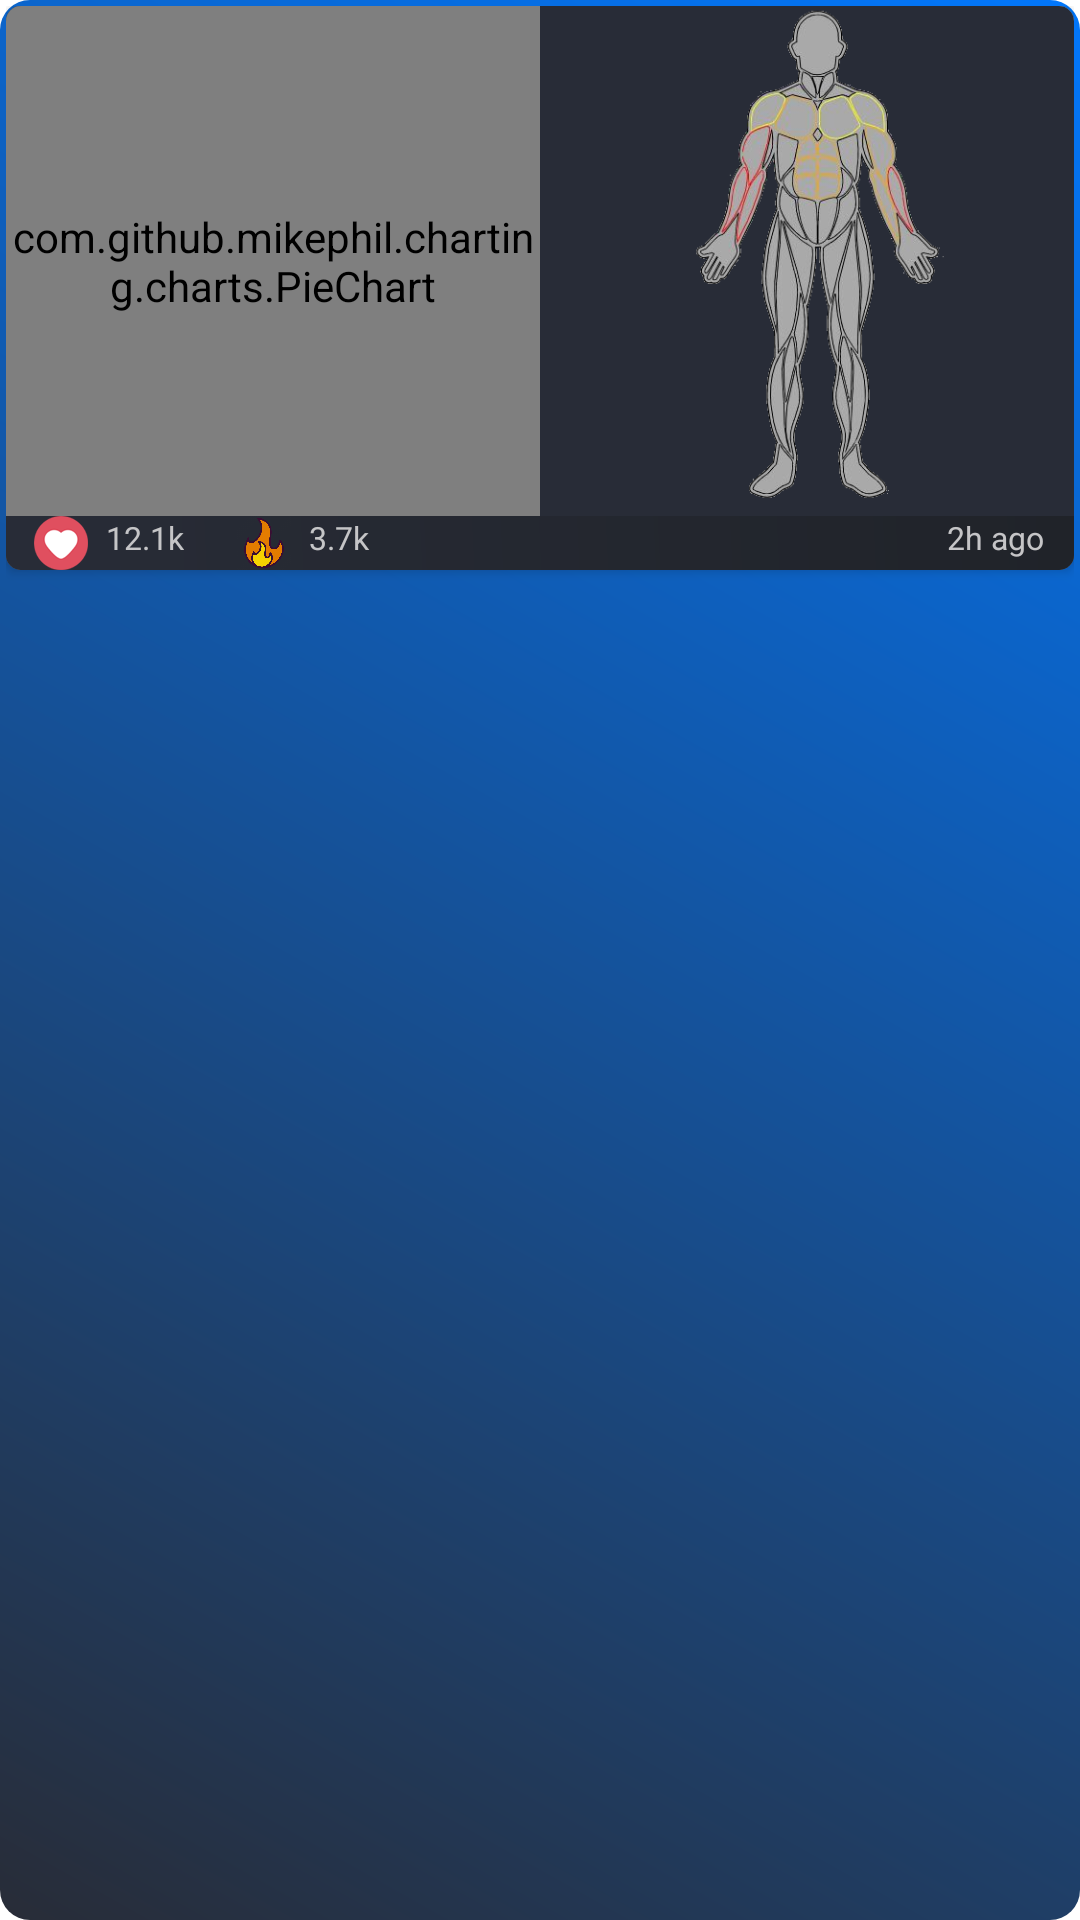

Icons on this 1080x1920 Android screen, each with the point to tap as (x=x, y=y):
calorieicon: (x=264, y=543)
like: (x=61, y=543)
